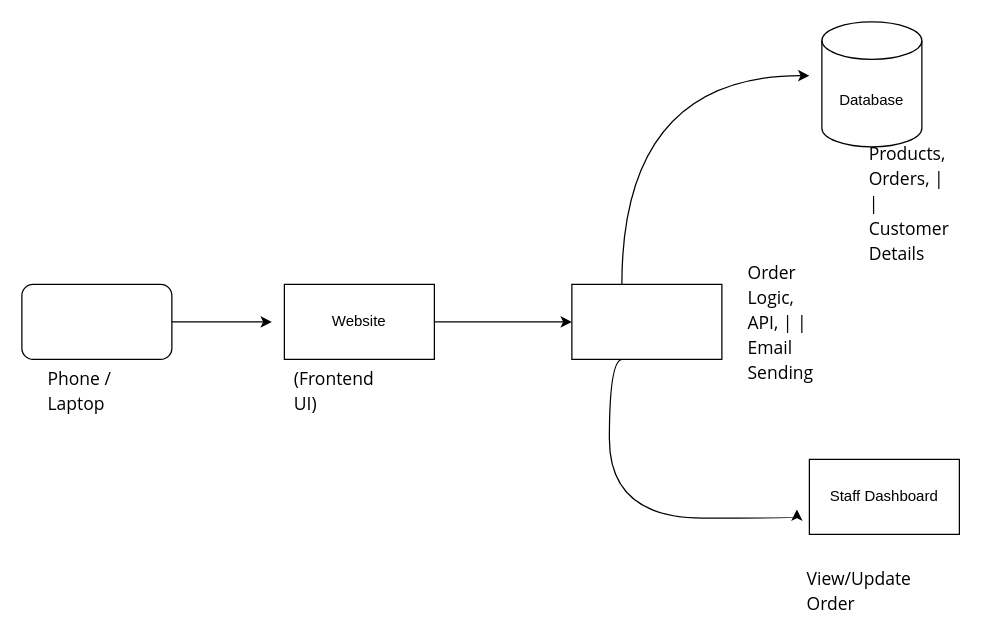
Some shapes in this 981 by 638 pixel diagram are drawn without their labels. Each missing label, with the centre of its shape:
"Customer" belongs at point (96, 321).
"Server" belongs at point (646, 321).
